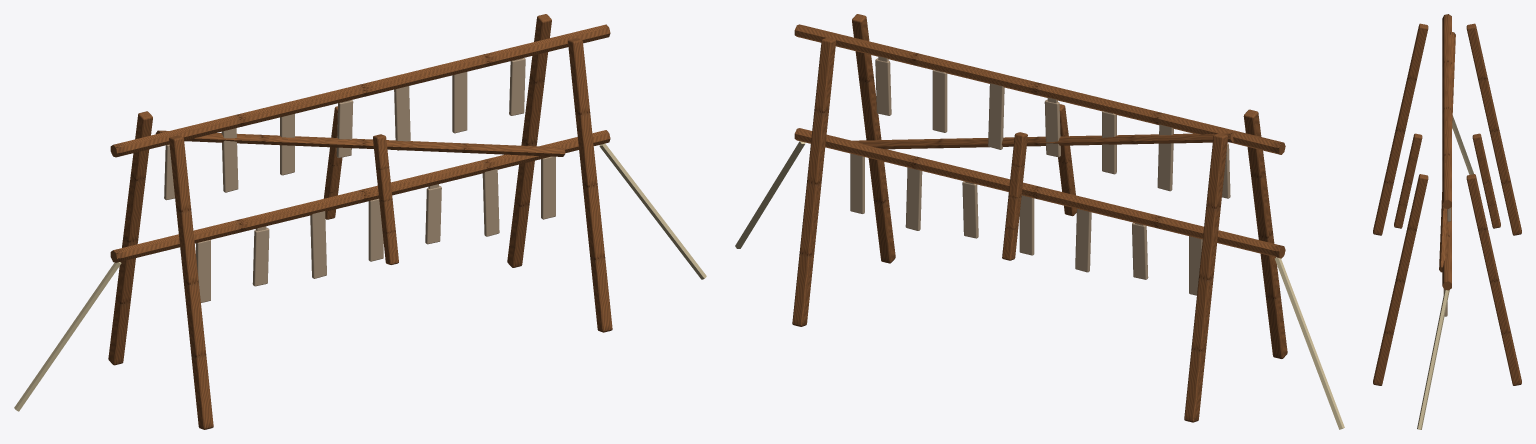
The model's file is viking-age-longhouse-and-longship-fish-drying-rack-4441a304__30177.glb.
3 renders of one model, left to right at view 1: azimuth 30°, elevation 25°; view 2: azimuth 150°, elevation 25°; view 3: azimuth 270°, elevation 25°, orthographic. The views are drawn at different scales.
Visible parts, largest first — view 1: fish-drying-rack; view 2: fish-drying-rack; view 3: fish-drying-rack.
Part boxes in pixels (box(x1,y1,x2,y2)): fish-drying-rack: box(14, 14, 706, 429); fish-drying-rack: box(735, 14, 1344, 429); fish-drying-rack: box(1373, 14, 1521, 429).
Size of the model in its own units: 6.24 by 2.46 by 1.59.
Materials: 3 (1 with a texture image).
